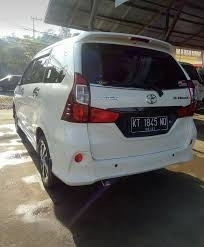plate: (131, 116, 169, 131)
